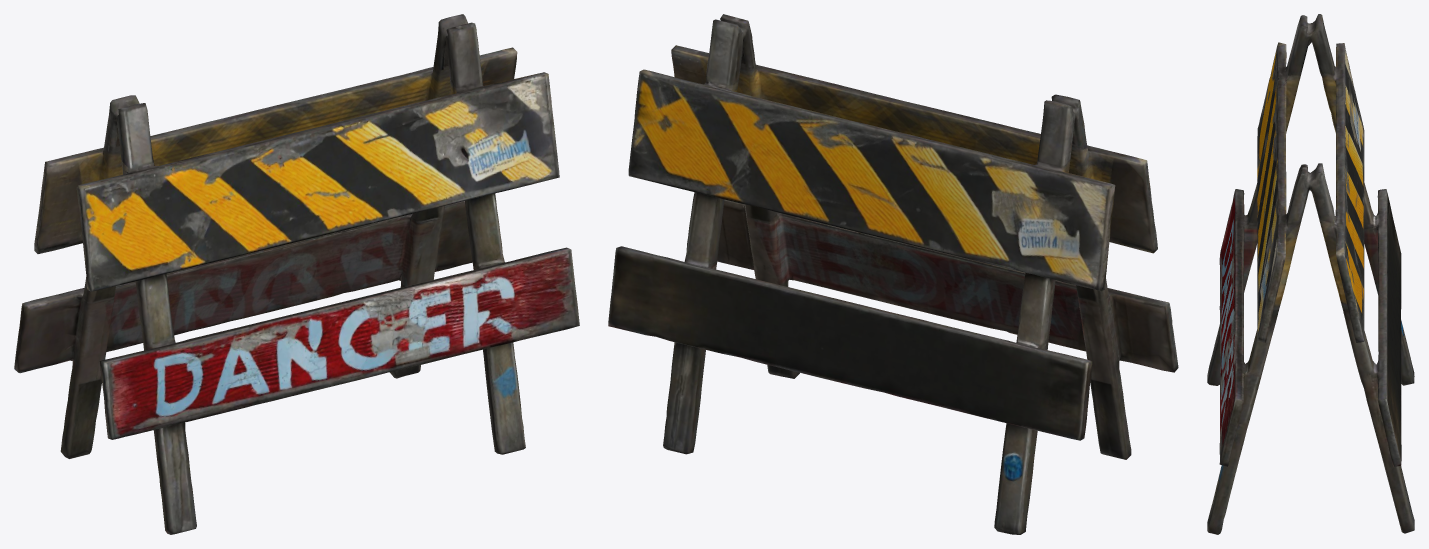
File: danger.obj
3 renders of one model, left to right at view 1: azimuth 30°, elevation 25°; view 2: azimuth 150°, elevation 25°; view 3: azimuth 270°, elevation 25°, orthographic. The views are drawn at different scales.
Parts seen in each view (by area): view 1: Mesh1_Material_0.001_0; view 2: Mesh1_Material_0.001_0; view 3: Mesh1_Material_0.001_0.
Boxes of the visible parts, bbox=[...] form: Mesh1_Material_0.001_0: bbox=[14, 14, 579, 534]; Mesh1_Material_0.001_0: bbox=[608, 14, 1178, 534]; Mesh1_Material_0.001_0: bbox=[1207, 14, 1414, 534].
Bounding box in the file's own units: 2 × 1.61 × 0.832.
1 material, 1 textured.
